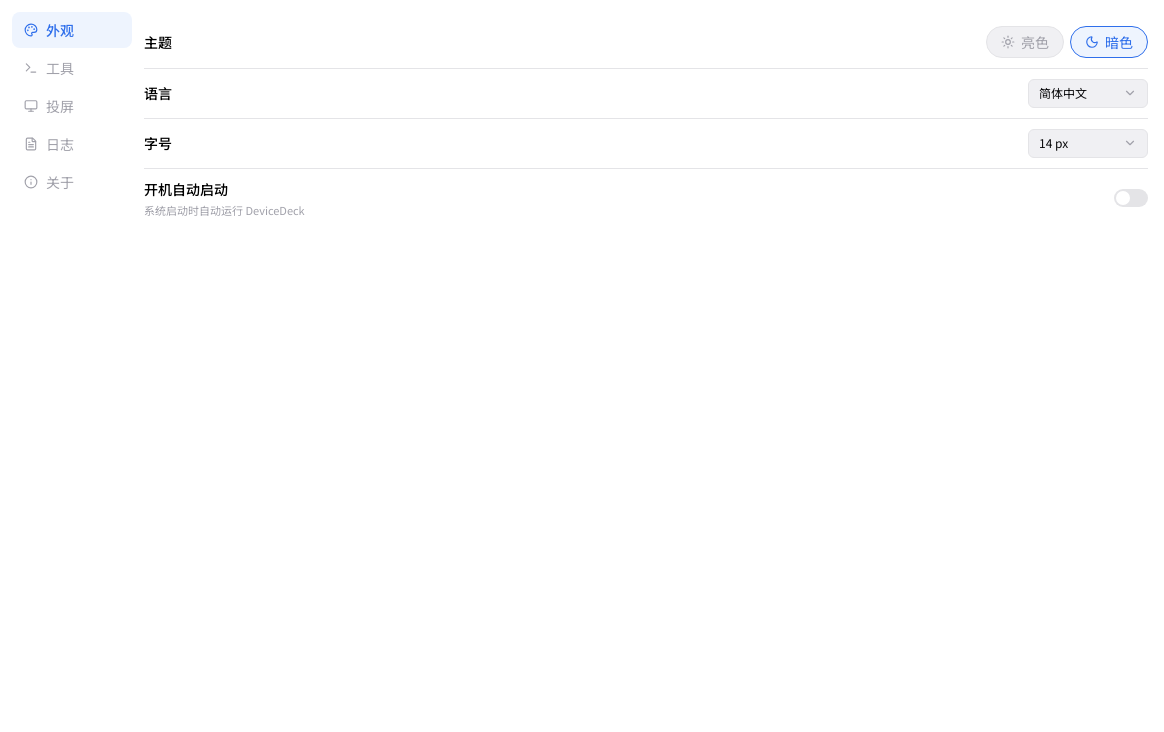
Scenario: mirror settings placement › shows the full mirror parameter presets in the Settings mirror section
Click the button "投屏". click: (72, 106)
box: x1=12 y1=88 x2=132 y2=124
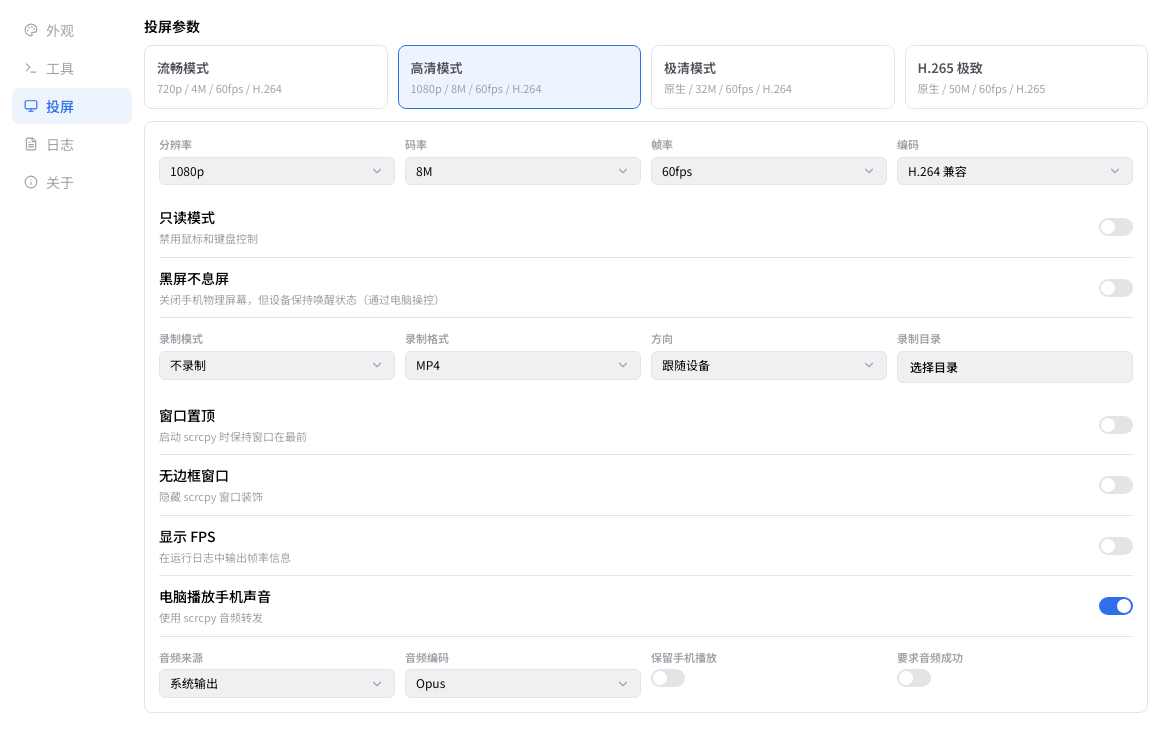
Expected: the heading "投屏参数" is shown, x1=144 y1=16 x2=200 y2=36
Expected: the text "流畅模式" is shown, x1=157 y1=58 x2=209 y2=78
Expected: the text "高清模式" is shown, x1=410 y1=58 x2=462 y2=78
